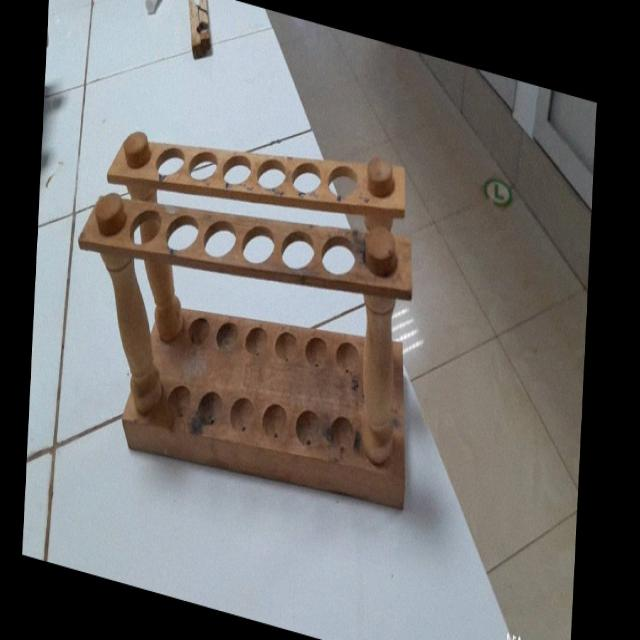Test Tube Racks: (70, 70, 428, 533)
